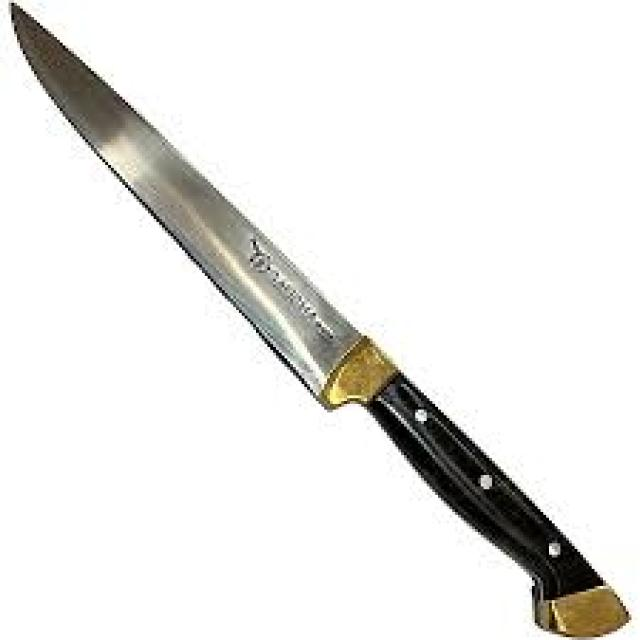knife: (11, 6, 631, 637)
